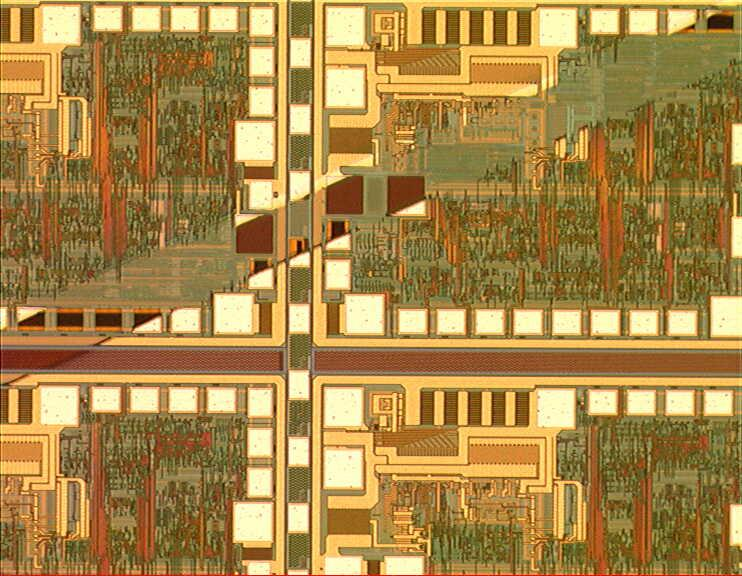COATING BAD: (1, 2, 742, 392)
